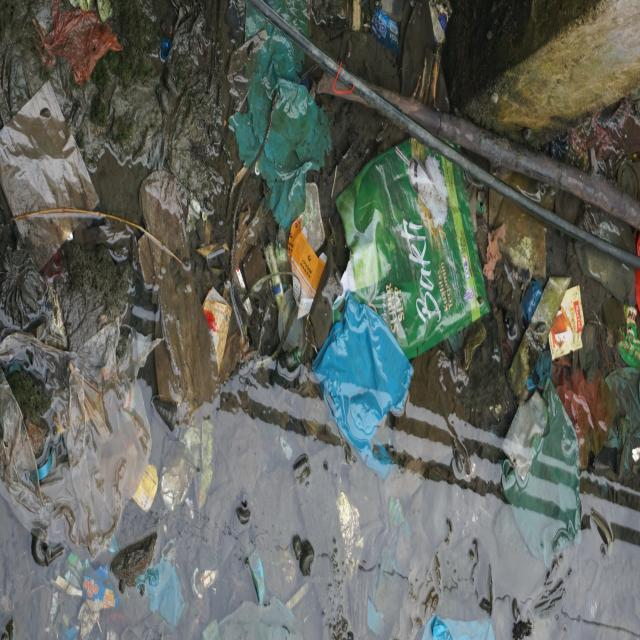Bungkus Makanan: (334, 133, 490, 361)
Bungkus Minuman: (546, 284, 586, 363), (617, 300, 640, 361)
Kantong Plastik: (44, 327, 154, 565), (230, 19, 334, 227), (318, 294, 414, 477), (501, 383, 584, 564), (552, 364, 640, 480)
